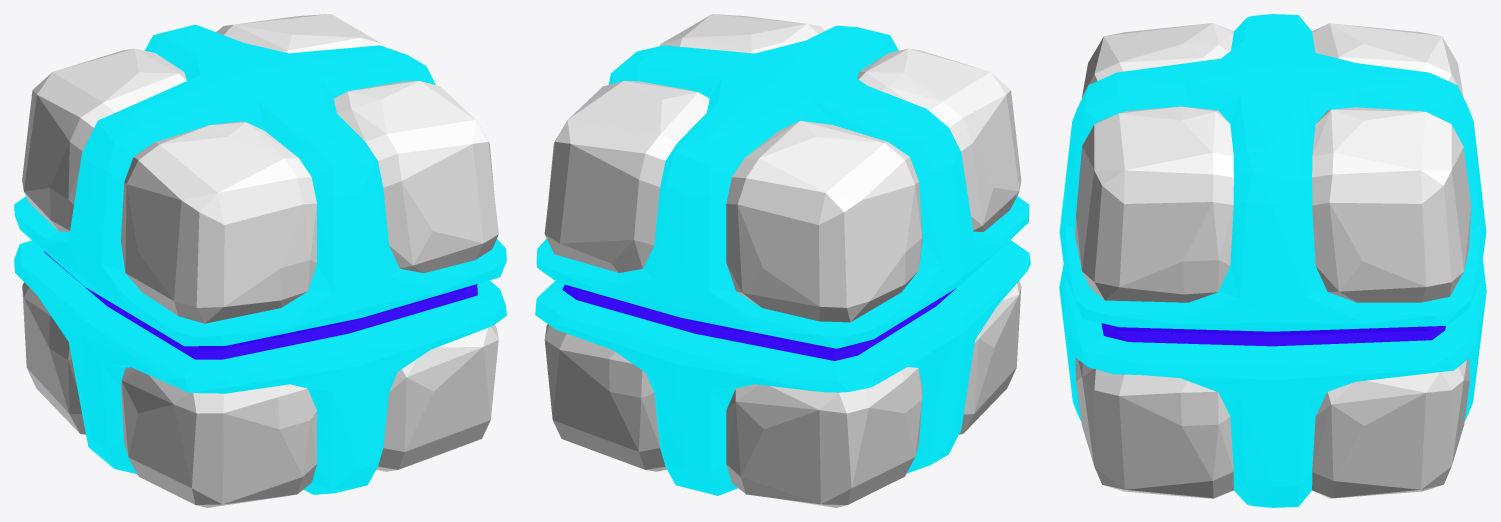
File: invisibility_trap.glb
The picture shows the model from 3 angles, left to right: view 1: azimuth 30°, elevation 25°; view 2: azimuth 150°, elevation 25°; view 3: azimuth 270°, elevation 25°; orthographic projection. The views are drawn at different scales.
Visible parts, largest first — view 1: invisibility_trap; view 2: invisibility_trap; view 3: invisibility_trap.
Boxes of the visible parts, x1,y1,x2,y2 form: invisibility_trap: (14,14,506,507); invisibility_trap: (535,14,1030,507); invisibility_trap: (1059,14,1486,507).
Bounding box in the file's own units: 2.13 × 2.13 × 2.13.
